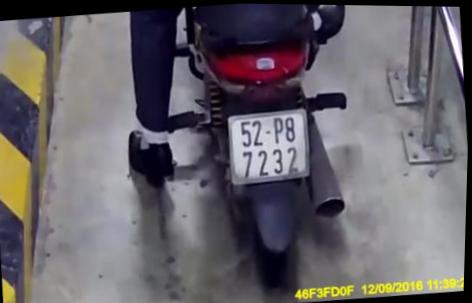LP: (223, 96, 315, 185)
